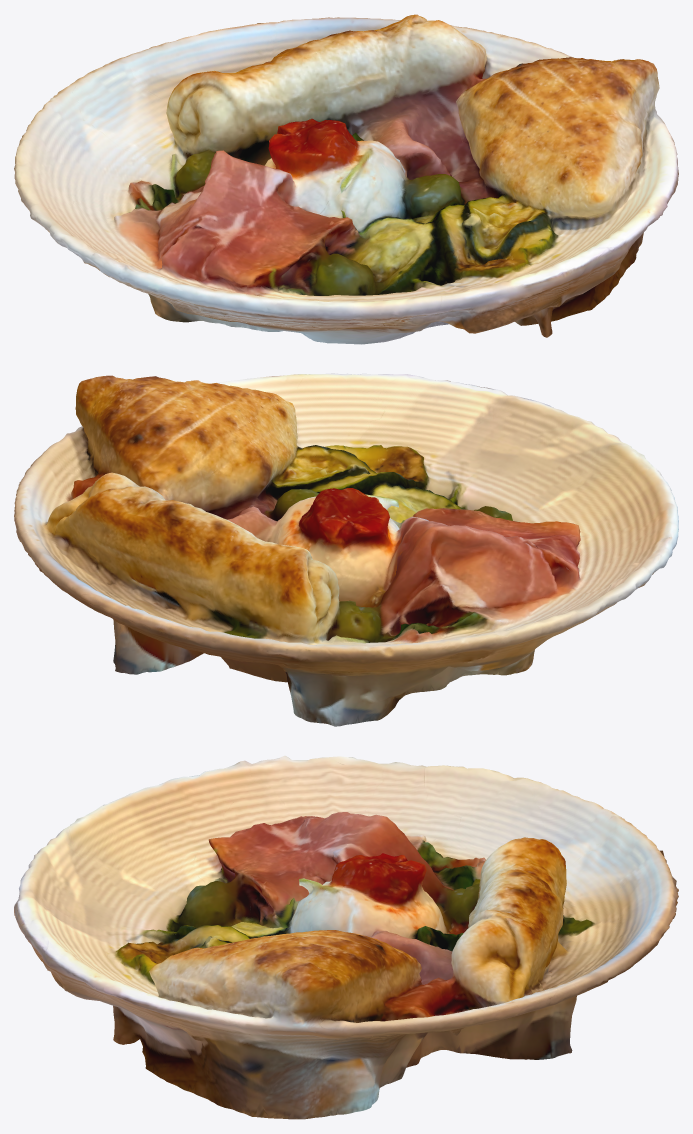
Rendered from italian_salad.glb.
3 renders of one model, top to bottom at view 1: azimuth 30°, elevation 25°; view 2: azimuth 150°, elevation 25°; view 3: azimuth 270°, elevation 25°, orthographic.
Visible parts, largest first — view 1: Object_2; view 2: Object_2; view 3: Object_2.
Boxes of the visible parts, x1=… form: Object_2: x1=14, y1=14, x2=678, y2=344; Object_2: x1=14, y1=373, x2=678, y2=726; Object_2: x1=14, y1=755, x2=678, y2=1119.
Bounding box in the file's own units: 0.2619 × 0.0716 × 0.2634.
Materials: 1 (1 with a texture image).
